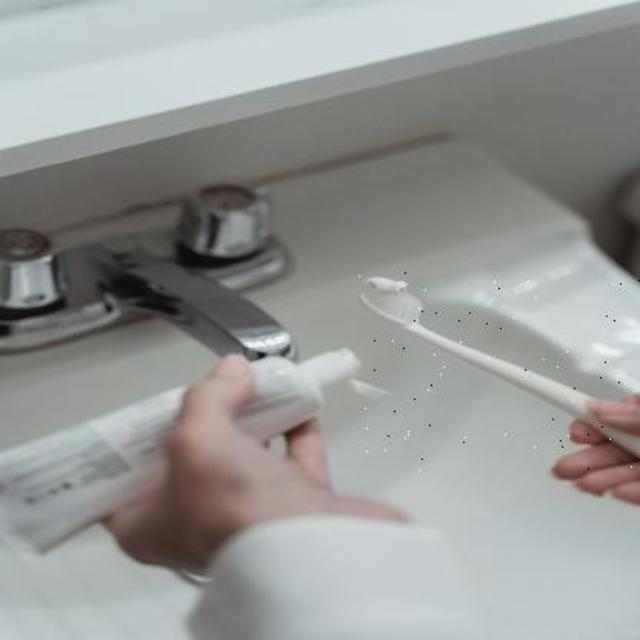toothbrush: (356, 270, 640, 470)
